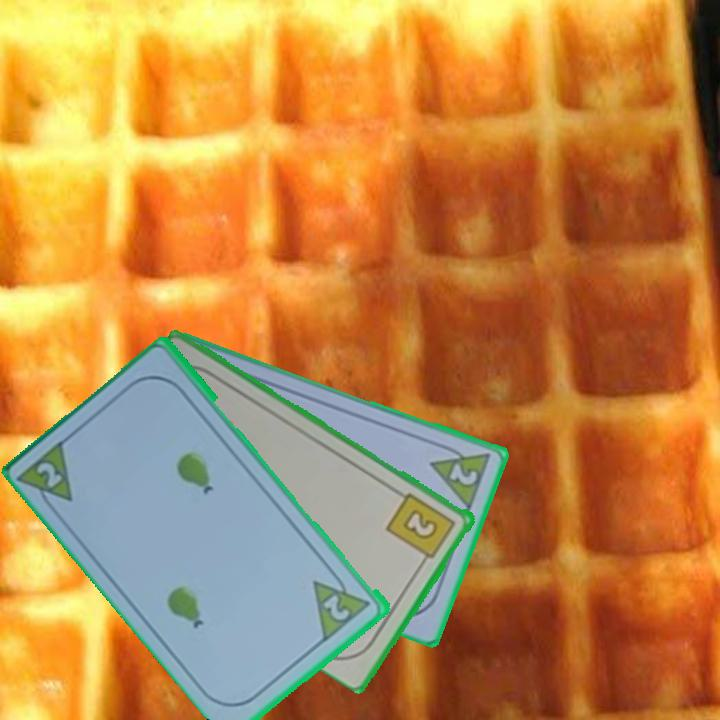2b: (383, 489, 459, 568)
2p: (427, 438, 495, 512), (320, 591, 354, 624), (33, 458, 66, 491)
